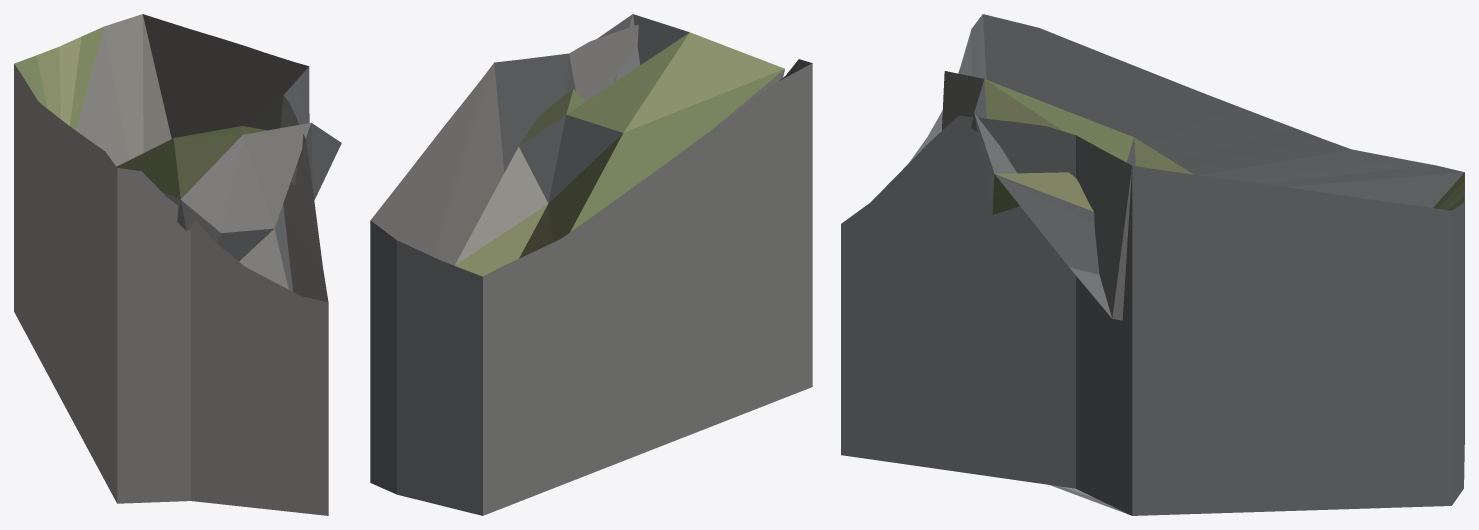
File: cliff_front_columns.glb
3 views of the same model, side by side, from view 1: azimuth 30°, elevation 25°; view 2: azimuth 150°, elevation 25°; view 3: azimuth 270°, elevation 25° (orthographic). The views are drawn at different scales.
Visible parts, largest first — view 1: cliff_front_columns; view 2: cliff_front_columns; view 3: cliff_front_columns.
Boxes of the visible parts, left/top/right/bottom form: cliff_front_columns: left=14, top=14, right=341, bottom=515; cliff_front_columns: left=370, top=14, right=812, bottom=515; cliff_front_columns: left=841, top=14, right=1464, bottom=515.
Bounding box in the file's own units: 51.78 × 64 × 98.92.
